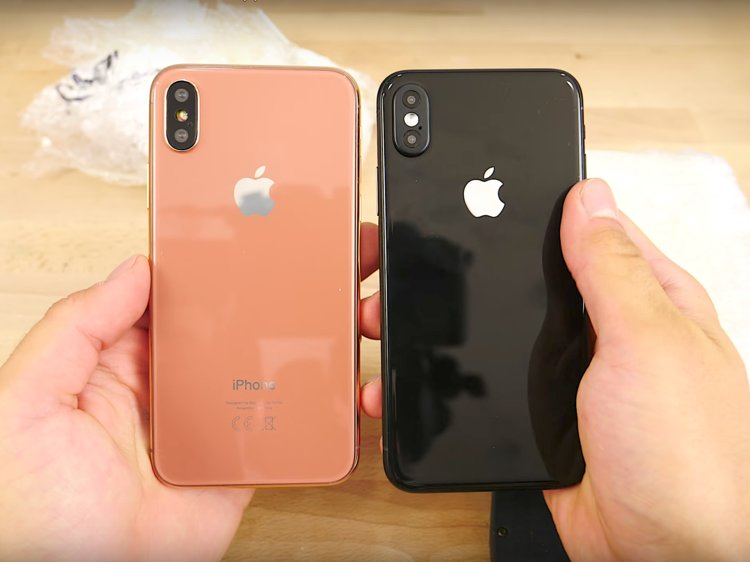apple: (222, 154, 302, 230), (446, 166, 527, 226)
